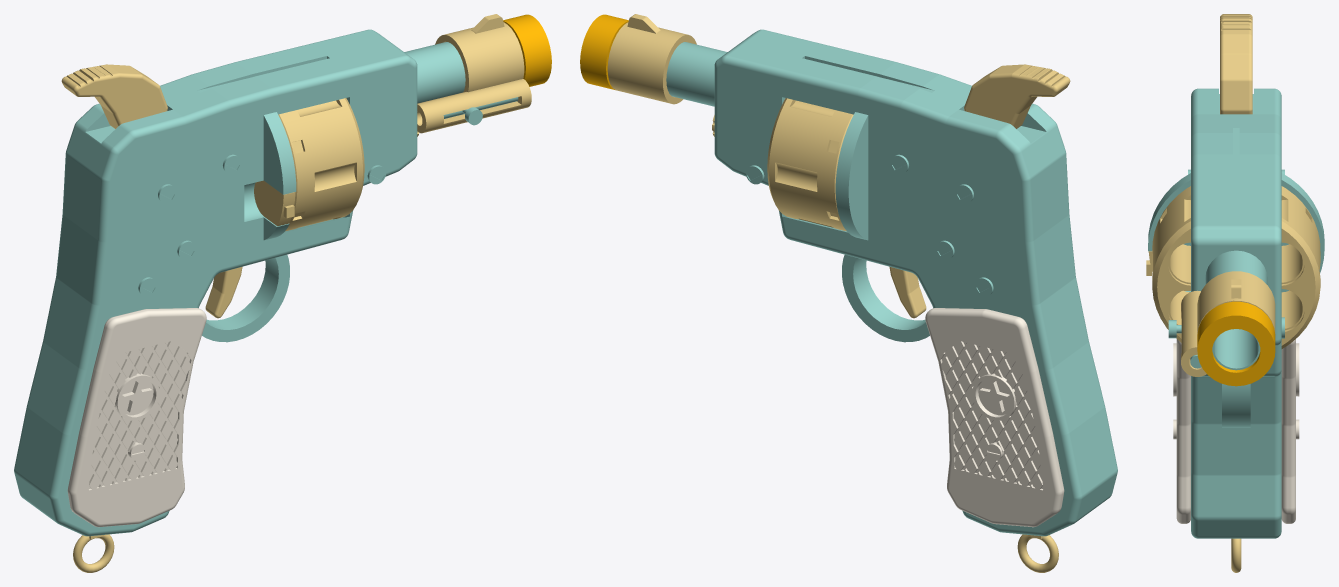
3 views of the same model, side by side, from view 1: azimuth 30°, elevation 25°; view 2: azimuth 150°, elevation 25°; view 3: azimuth 270°, elevation 25° (orthographic). The views are drawn at different scales.
Parts seen in each view (by area): view 1: telaio, =>[0:1:1:15], =>[0:1:1:3], manicotto, =>[0:1:1:17], =>[0:1:1:10], =>[0:1:1:23], sportello, =>[0:1:1:20], cordino; view 2: telaio, guancia_sx, =>[0:1:1:3], manicotto, =>[0:1:1:17], =>[0:1:1:10], =>[0:1:1:23], =>[0:1:1:20], cordino; view 3: telaio, =>[0:1:1:3], =>[0:1:1:23], manicotto, =>[0:1:1:17], guancia_sx, =>[0:1:1:10], =>[0:1:1:15], cordino, astina.
Part boxes in pixels (x1=…): telaio: x1=14, y1=29, x2=417, y2=536; =>[0:1:1:15]: x1=67, y1=308, x2=206, y2=527; =>[0:1:1:3]: x1=278, y1=98, x2=364, y2=231; manicotto: x1=417, y1=14, x2=531, y2=133; =>[0:1:1:17]: x1=61, y1=64, x2=167, y2=128; =>[0:1:1:10]: x1=404, y1=42, x2=465, y2=103; =>[0:1:1:23]: x1=503, y1=14, x2=551, y2=86; sportello: x1=254, y1=180, x2=295, y2=226; =>[0:1:1:20]: x1=205, y1=266, x2=242, y2=318; cordino: x1=73, y1=534, x2=114, y2=572; telaio: x1=714, y1=29, x2=1117, y2=536; guancia_sx: x1=925, y1=308, x2=1064, y2=527; =>[0:1:1:3]: x1=767, y1=98, x2=853, y2=231; manicotto: x1=607, y1=14, x2=696, y2=104; =>[0:1:1:17]: x1=964, y1=64, x2=1070, y2=128; =>[0:1:1:10]: x1=666, y1=42, x2=727, y2=106; =>[0:1:1:23]: x1=580, y1=14, x2=628, y2=89; =>[0:1:1:20]: x1=889, y1=266, x2=926, y2=318; cordino: x1=1017, y1=534, x2=1058, y2=572; telaio: x1=1148, y1=88, x2=1324, y2=538; =>[0:1:1:3]: x1=1152, y1=186, x2=1320, y2=348; =>[0:1:1:23]: x1=1197, y1=301, x2=1275, y2=386; manicotto: x1=1181, y1=271, x2=1275, y2=376; =>[0:1:1:17]: x1=1220, y1=14, x2=1252, y2=114; guancia_sx: x1=1281, y1=339, x2=1299, y2=523; =>[0:1:1:10]: x1=1205, y1=250, x2=1267, y2=370; =>[0:1:1:15]: x1=1173, y1=339, x2=1190, y2=523; cordino: x1=1231, y1=538, x2=1241, y2=572; astina: x1=1168, y1=320, x2=1201, y2=368.
Size of the model in its own units: 155 by 147 by 43.38.
